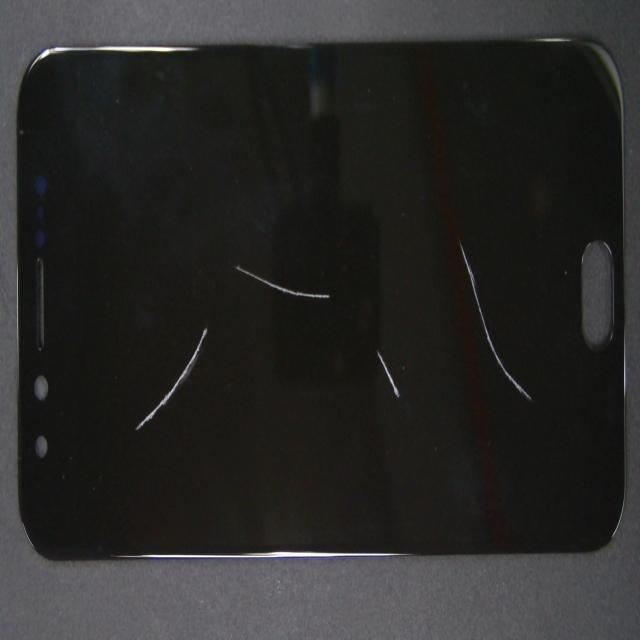scratch: (457, 239, 537, 413), (134, 322, 209, 441), (226, 251, 333, 312), (371, 341, 405, 409)
